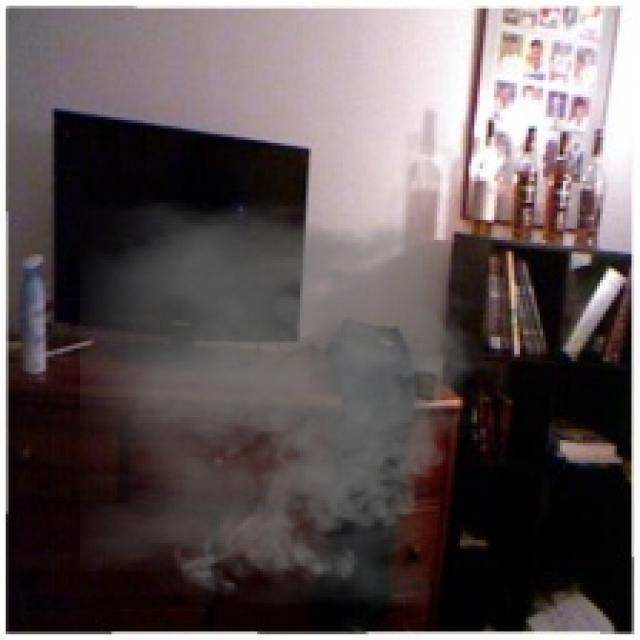smoke: (80, 200, 497, 606)
